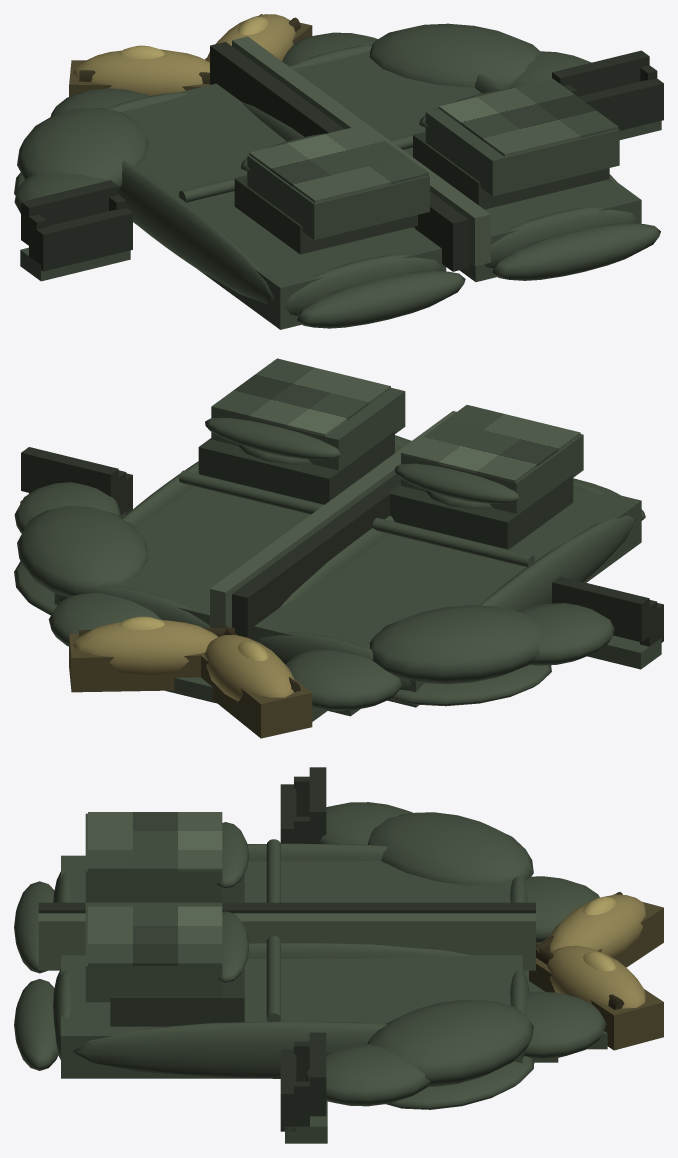
Rendered from CMU3DCivilianJacketGreenParkaWorldCloud.glb.
3 renders of one model, top to bottom at view 1: azimuth 30°, elevation 25°; view 2: azimuth 150°, elevation 25°; view 3: azimuth 270°, elevation 25°, orthographic. The views are drawn at different scales.
Parts seen in each view (by area): view 1: left long parka front cloth face, right long parka front cloth face, right soft upper sleeve, left original pocket stitching, right original pocket stitching, right woven pocket face, left long parka front side fold left, left narrow front closure, left soft upper sleeve, left woven pocket face, left bottom turn-up, right bottom turn-up (+22 smaller); view 2: left long parka front cloth face, right long parka front cloth face, left soft upper sleeve, right soft upper sleeve, right original pocket stitching, left original pocket stitching, left narrow front closure, right patch pocket folded sides, left patch pocket folded sides, left long parka front side fold left, right continuous low fur collar band, right narrow front closure (+22 smaller); view 3: right long parka front cloth face, right narrow front closure, right long parka front side fold right, right soft upper sleeve, left long parka front cloth face, left soft upper sleeve, left original pocket stitching, right original pocket stitching, right woven pocket face, right outward forearm fold, left woven pocket face, left narrow front closure (+25 smaller).
Part boxes in pixels (bbox=[...]): left long parka front cloth face: bbox=[121, 83, 446, 329]; right long parka front cloth face: bbox=[288, 51, 641, 281]; right soft upper sleeve: bbox=[369, 23, 540, 88]; left original pocket stitching: bbox=[249, 125, 428, 202]; right original pocket stitching: bbox=[439, 78, 618, 156]; right woven pocket face: bbox=[425, 109, 619, 196]; left long parka front side fold left: bbox=[118, 160, 274, 303]; left narrow front closure: bbox=[210, 41, 468, 271]; left soft upper sleeve: bbox=[17, 108, 148, 190]; left woven pocket face: bbox=[247, 155, 429, 239]; left bottom turn-up: bbox=[297, 270, 465, 328]; right bottom turn-up: bbox=[492, 223, 660, 280]; left long parka front cloth face: bbox=[254, 489, 641, 707]; right long parka front cloth face: bbox=[54, 442, 407, 625]; left soft upper sleeve: bbox=[369, 605, 540, 684]; right soft upper sleeve: bbox=[17, 506, 148, 596]; right original pocket stitching: bbox=[211, 358, 390, 436]; left original pocket stitching: bbox=[401, 405, 580, 482]; left narrow front closure: bbox=[232, 474, 400, 640]; right patch pocket folded sides: bbox=[198, 430, 394, 504]; left patch pocket folded sides: bbox=[389, 474, 573, 549]; left long parka front side fold left: bbox=[479, 515, 635, 611]; right continuous low fur collar band: bbox=[73, 619, 217, 675]; right narrow front closure: bbox=[210, 411, 456, 627]; right long parka front cloth face: bbox=[61, 955, 522, 1078]; right narrow front closure: bbox=[38, 913, 535, 970]; right long parka front side fold right: bbox=[72, 1021, 387, 1078]; right soft upper sleeve: bbox=[367, 999, 533, 1086]; left long parka front cloth face: bbox=[61, 855, 522, 902]; left soft upper sleeve: bbox=[367, 812, 533, 885]; left original pocket stitching: bbox=[88, 812, 222, 871]; right original pocket stitching: bbox=[88, 906, 222, 965]; right woven pocket face: bbox=[85, 902, 222, 1002]; right outward forearm fold: bbox=[303, 1043, 430, 1106]; left woven pocket face: bbox=[85, 813, 222, 902]; left narrow front closure: bbox=[38, 902, 535, 913].
Bounding box in the file's own units: 0.5112 × 0.091 × 0.4534.
Materials: 10 (2 with a texture image).
